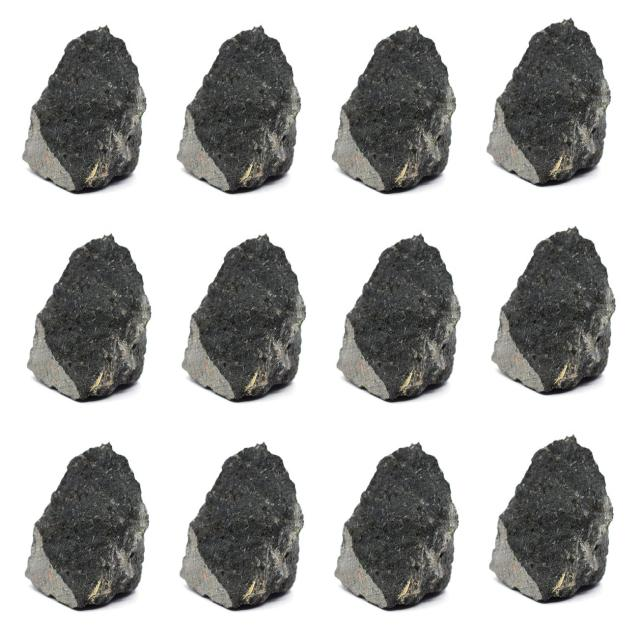Igneous: (479, 212, 633, 394), (11, 222, 157, 408), (16, 17, 164, 199), (19, 439, 158, 625), (172, 12, 308, 202), (322, 437, 462, 620), (317, 12, 457, 194), (477, 12, 613, 191), (478, 436, 618, 606), (179, 437, 308, 620), (175, 226, 309, 402), (328, 228, 462, 403)
